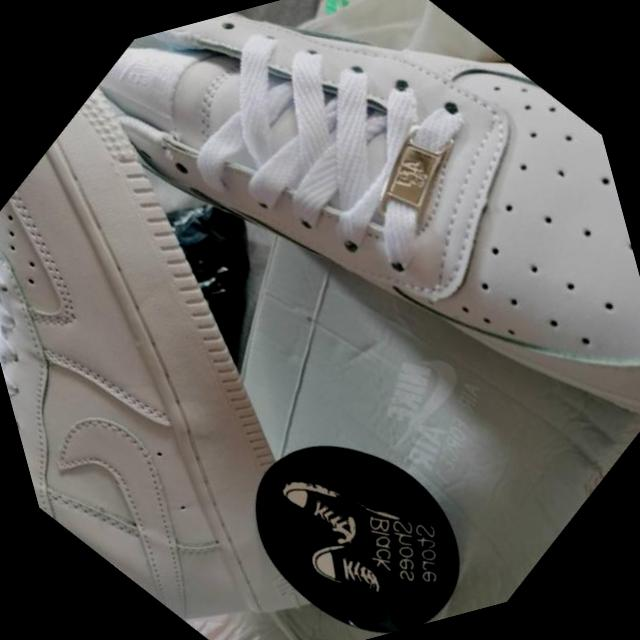nike_fake_airforce: (56, 0, 640, 606), (0, 7, 515, 640)
